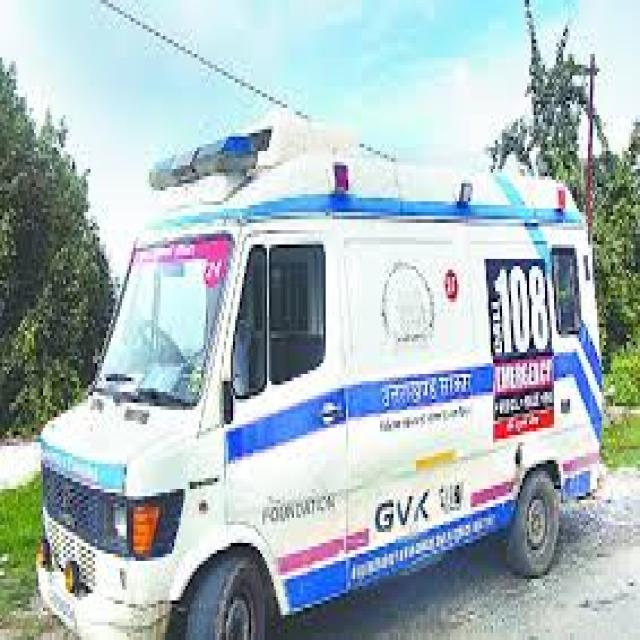Ambulance: (27, 111, 613, 640)
